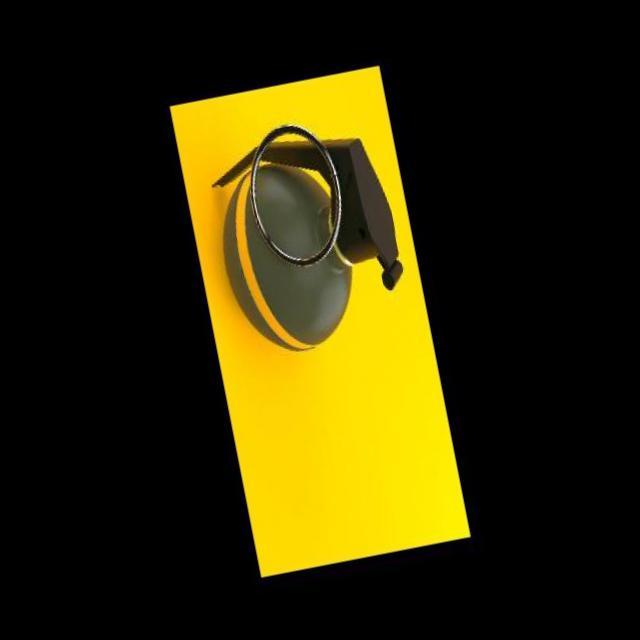grenade: (200, 98, 420, 370)
